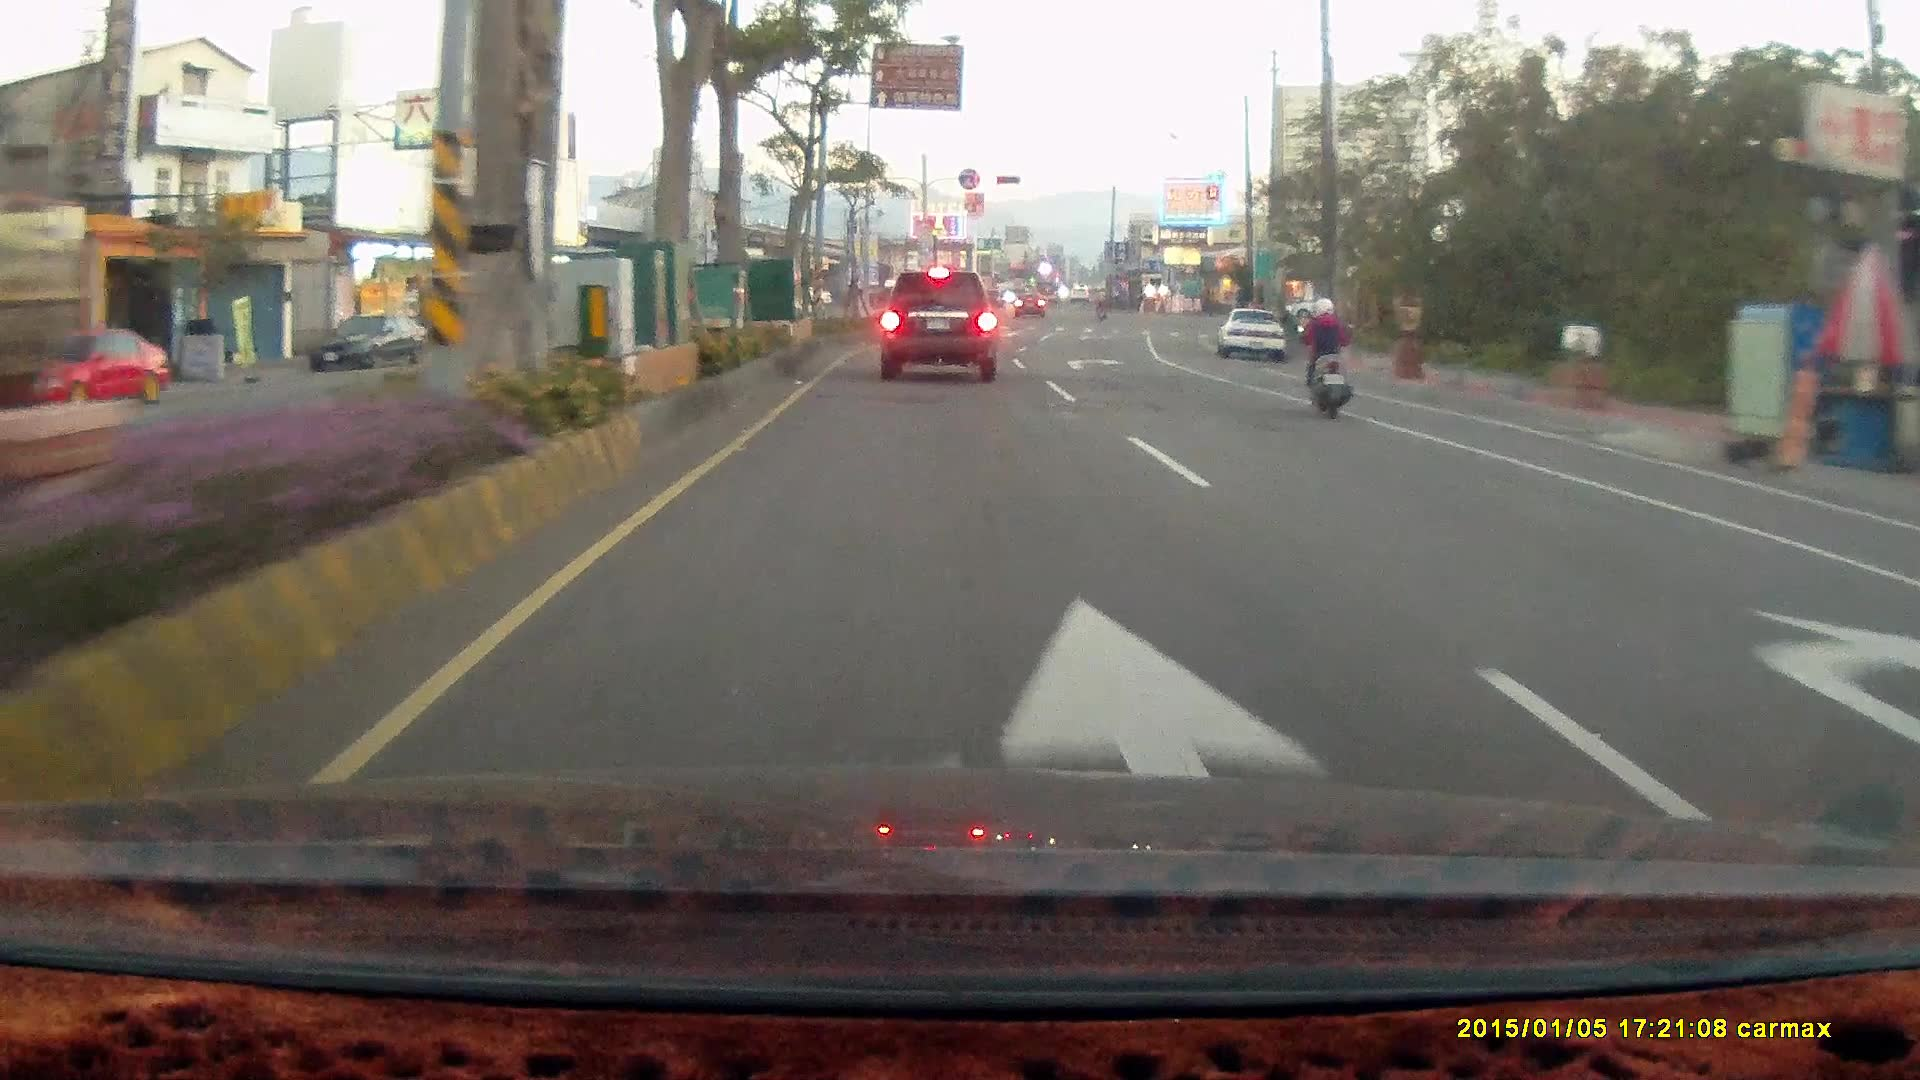rider: (1294, 295, 1352, 421)
vehicle: (2, 333, 166, 419), (879, 266, 997, 383), (1896, 493, 1920, 836), (306, 312, 418, 374), (1883, 528, 1920, 690), (1215, 306, 1285, 363), (1219, 309, 1290, 363)
